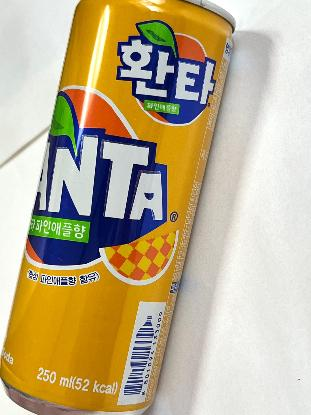Can: (0, 0, 241, 415)
